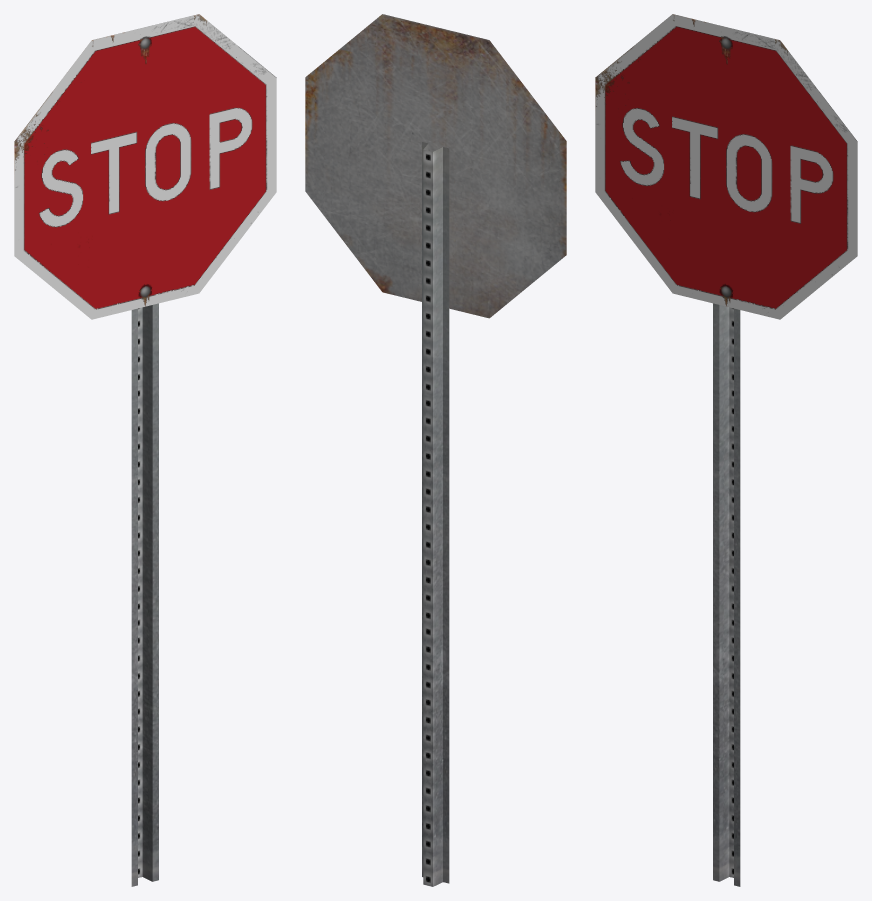
File: stop_sign_2.dae
3 renders of one model, left to right at view 1: azimuth 30°, elevation 25°; view 2: azimuth 150°, elevation 25°; view 3: azimuth 330°, elevation 25°, orthographic.
Visible parts, largest first — view 1: Box001.001; view 2: Box001.001; view 3: Box001.001.
Part boxes in pixels (x1,y1,x2,y2): Box001.001: (14,14,276,886); Box001.001: (305,14,566,886); Box001.001: (595,14,857,886).
Size of the model in its own units: 0.4457 by 0.0228 by 1.39.
Materials: 1 (1 with a texture image).
